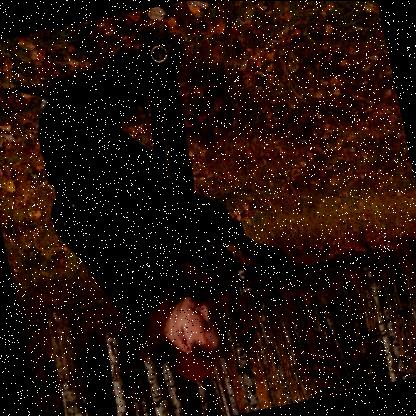rifle: (173, 212, 375, 330)
